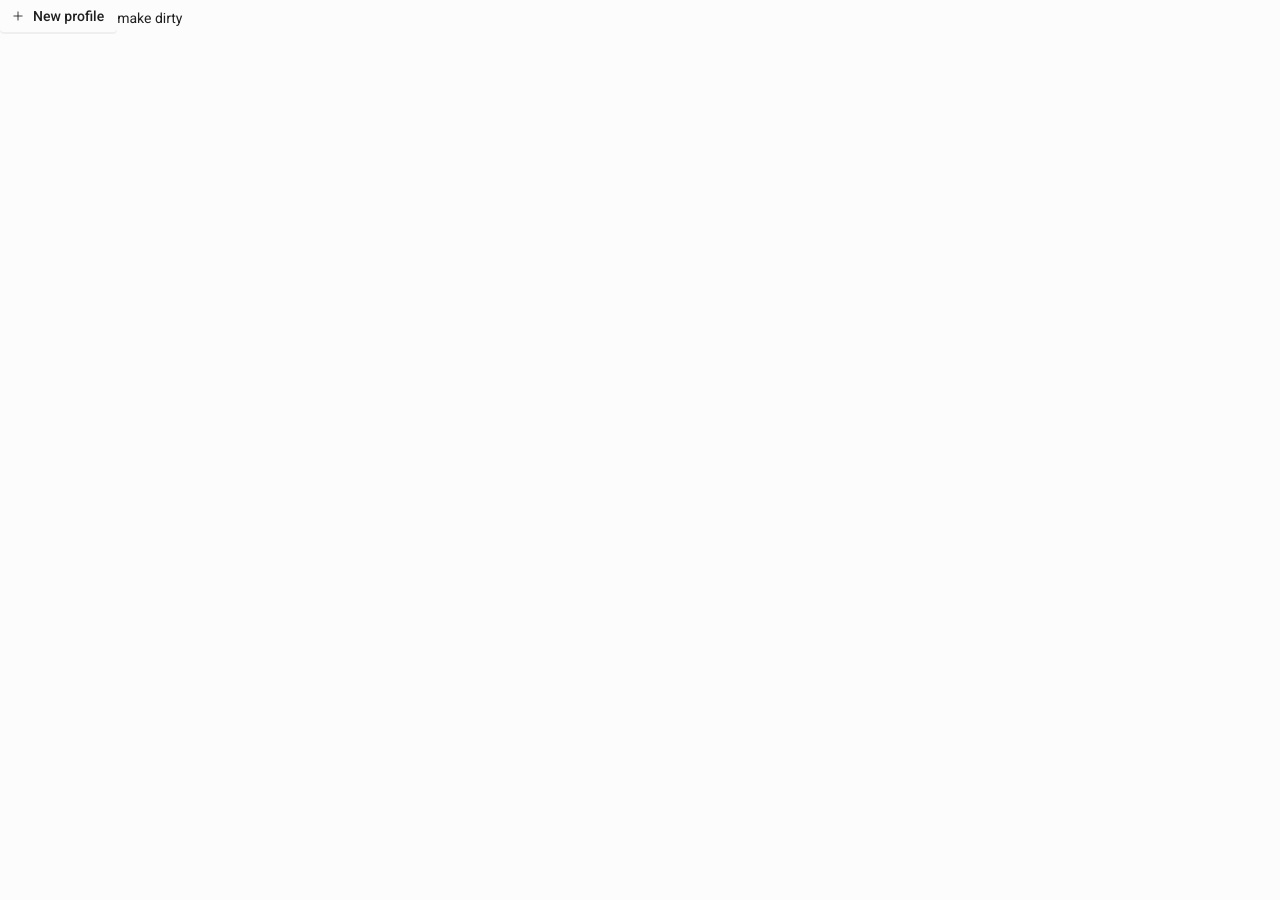
Scenario: NewProfileAction › with a draft, Continue it goes back to the flow
Later steps or results of the test are not shown.
Click the button "New profile" at (59, 16), box [0,0,117,32]
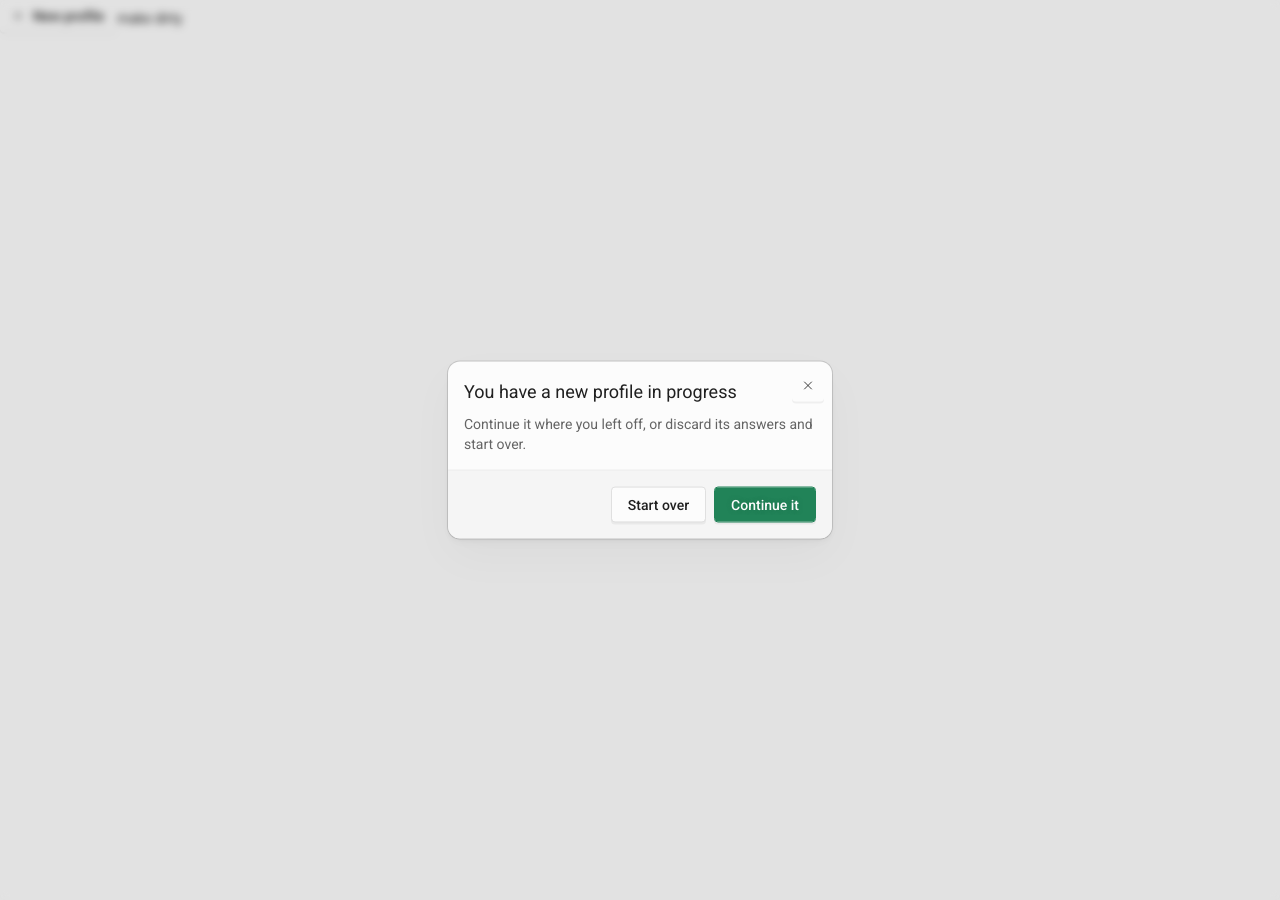
Check: the heading "You have a new profile in progress" is shown, box [464,380,737,402]
